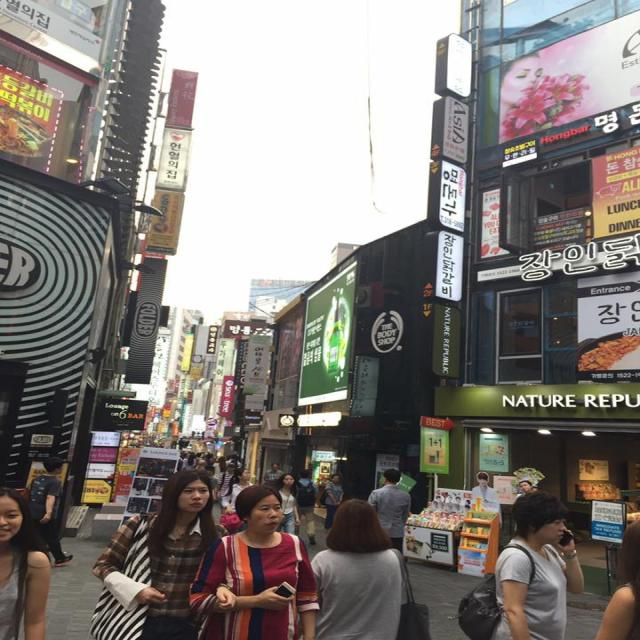body: (84, 468, 238, 640), (184, 482, 324, 640), (491, 3, 640, 140), (452, 488, 586, 639), (308, 497, 408, 640), (0, 486, 53, 640), (592, 516, 640, 640), (26, 455, 76, 567), (125, 426, 252, 468), (364, 467, 414, 557), (219, 466, 257, 534), (290, 468, 322, 547), (465, 470, 504, 532), (271, 473, 301, 536), (190, 467, 216, 535), (323, 473, 344, 531), (216, 462, 239, 513), (262, 462, 286, 484), (515, 480, 535, 500)
